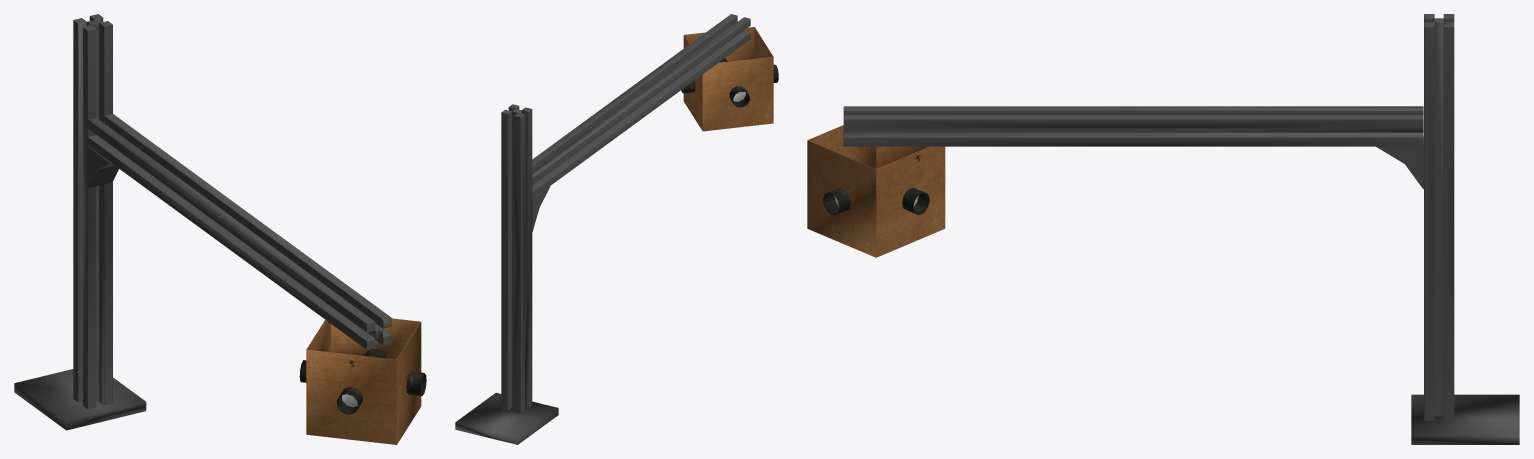
File: trafficlight.obj
The picture shows the model from 3 angles, left to right: view 1: azimuth 30°, elevation 25°; view 2: azimuth 150°, elevation 25°; view 3: azimuth 270°, elevation 25°; orthographic projection. The views are drawn at different scales.
Parts seen in each view (by area): view 1: HorizontalBeam_Beam.001, VerticalBeam_Beam.000, Cube, Bottom, Support, Cylinder.001, Cylinder.000; view 2: VerticalBeam_Beam.000, HorizontalBeam_Beam.001, Cube, Bottom; view 3: HorizontalBeam_Beam.001, Cube, VerticalBeam_Beam.000, Bottom, Support.
Boxes of the visible parts, x1,y1,x2,y2 form: HorizontalBeam_Beam.001: (88, 113, 391, 349); VerticalBeam_Beam.000: (73, 14, 112, 409); Cube: (306, 318, 421, 444); Bottom: (14, 369, 146, 430); Support: (87, 146, 118, 187); Cylinder.001: (406, 371, 426, 395); Cylinder.000: (336, 386, 362, 414); VerticalBeam_Beam.000: (501, 104, 532, 413); HorizontalBeam_Beam.001: (532, 14, 750, 198); Cube: (683, 27, 773, 131); Bottom: (455, 392, 558, 444); HorizontalBeam_Beam.001: (843, 106, 1423, 146); Cube: (807, 125, 945, 257); VerticalBeam_Beam.000: (1424, 14, 1454, 420); Bottom: (1411, 394, 1519, 444); Support: (1376, 136, 1423, 189).
Bounding box in the file's own units: 0.113 × 0.3655 × 0.5834.
Materials: 3 (2 with a texture image).
